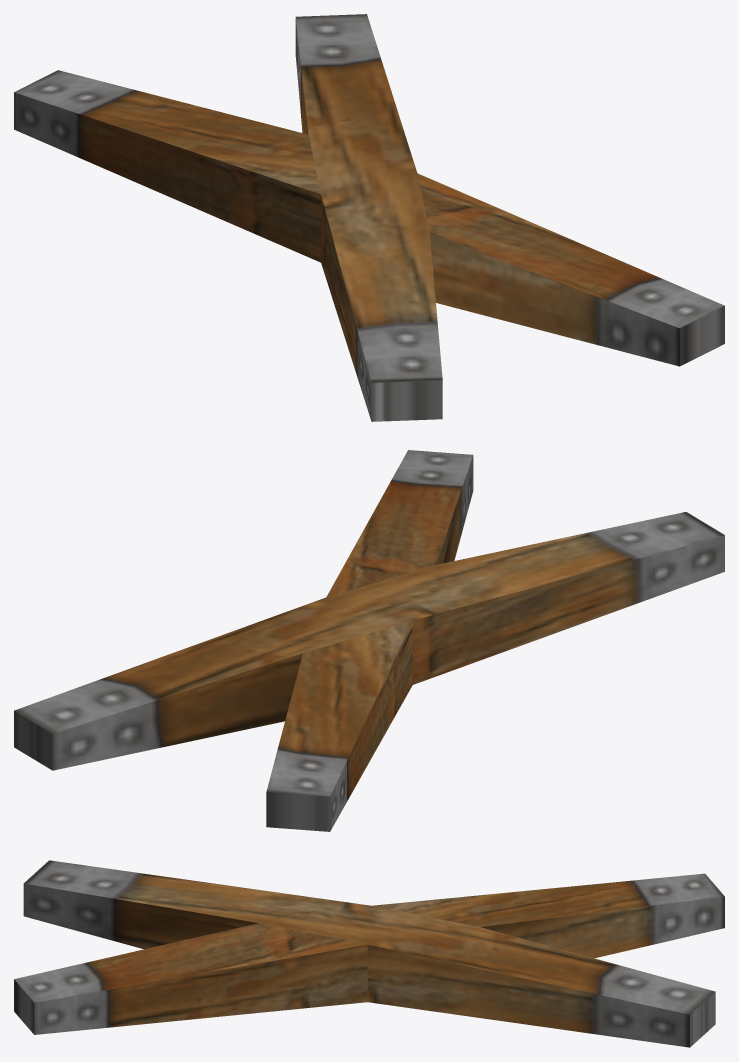
Rendered from P_Modul_26_Halter.obj.
The picture shows the model from 3 angles, top to bottom: view 1: azimuth 30°, elevation 25°; view 2: azimuth 150°, elevation 25°; view 3: azimuth 270°, elevation 25°; orthographic projection. The views are drawn at different scales.
Visible parts, largest first — view 1: P_Modul_26_Halter; view 2: P_Modul_26_Halter; view 3: P_Modul_26_Halter.
Part boxes in pixels (<box>): P_Modul_26_Halter: <box>14,14,724,421</box>; P_Modul_26_Halter: <box>14,450,724,831</box>; P_Modul_26_Halter: <box>14,860,724,1047</box>.
Bounding box in the file's own units: 1.47 × 0.2554 × 2.85.
